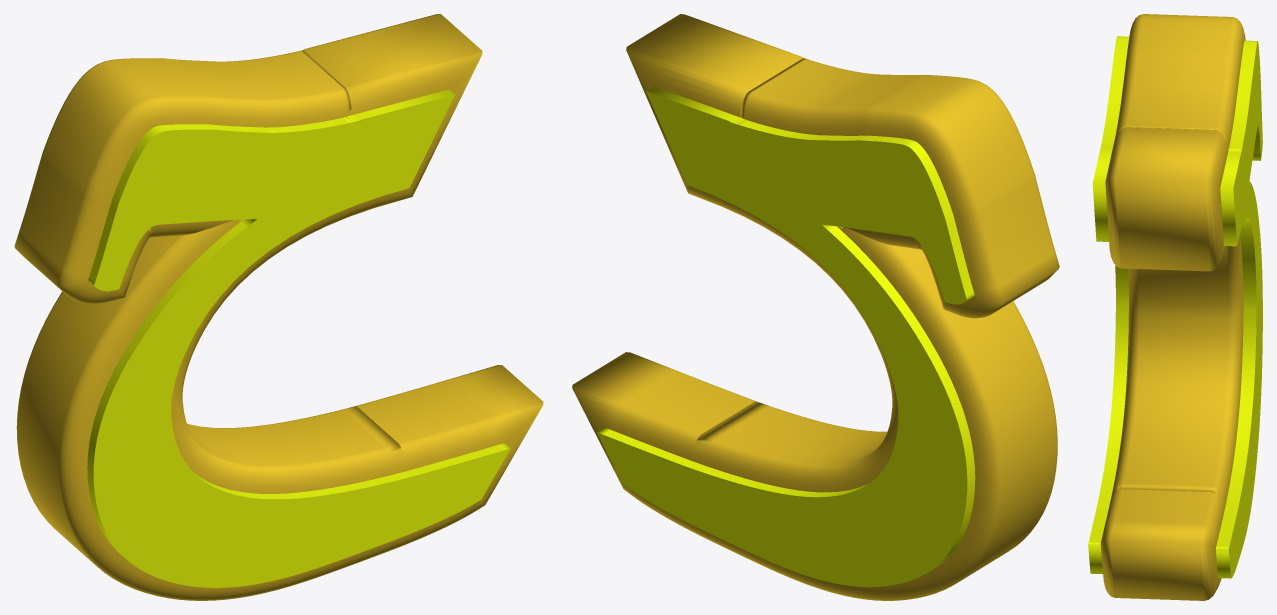
3 renders of one model, left to right at view 1: azimuth 30°, elevation 25°; view 2: azimuth 150°, elevation 25°; view 3: azimuth 270°, elevation 25°, orthographic. The views are drawn at different scales.
Parts seen in each view (by area): view 1: text 2, Text; view 2: text 2, Text; view 3: text 2, Text.
Part boxes in pixels (bbox=[...]): text 2: bbox=[14, 14, 543, 600]; Text: bbox=[87, 89, 510, 587]; text 2: bbox=[572, 14, 1059, 600]; Text: bbox=[596, 86, 975, 587]; text 2: bbox=[1100, 14, 1245, 600]; Text: bbox=[1088, 36, 1262, 578].
Size of the model in its own units: 43.43 by 45.46 by 15.07.
